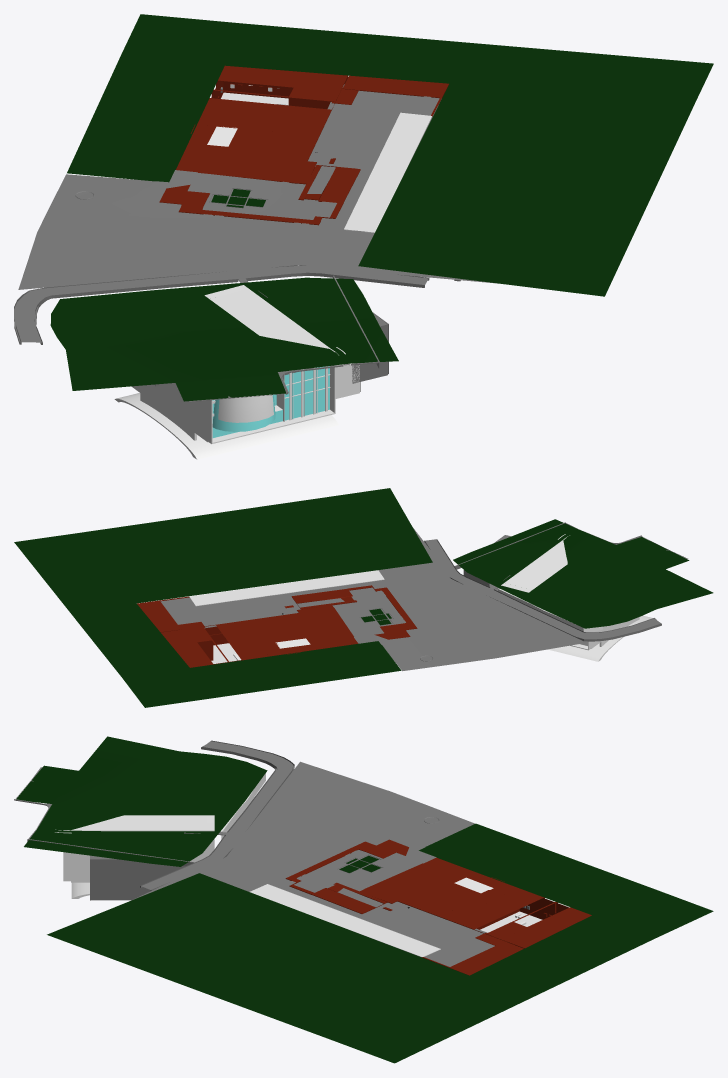
File: Tec.obj
3 views of the same model, one above another, from view 1: azimuth 30°, elevation 25°; view 2: azimuth 150°, elevation 25°; view 3: azimuth 270°, elevation 25° (orthographic). The views are drawn at different scales.
Parts seen in each view (by area): view 1: top1; view 2: top1; view 3: top1.
Part boxes in pixels (x1,y1,x2,y2): top1: (14,14,713,459); top1: (14,488,713,707); top1: (14,736,713,1063).
Bounding box in the file's own units: 13657 × 1275 × 12332.
